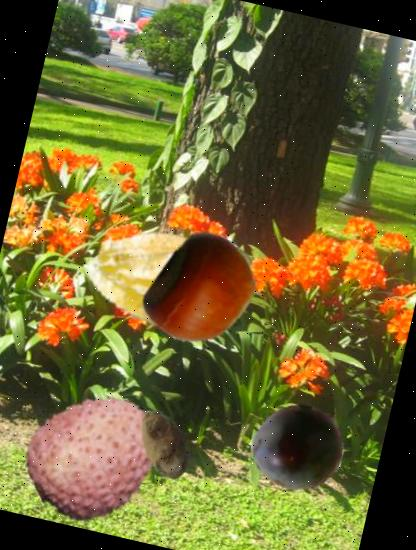Ginger: (119, 399, 209, 489)
Lychee: (15, 376, 178, 539)
Nut: (135, 222, 271, 358)
Physalis: (70, 188, 249, 367)
Plum: (242, 392, 352, 502)
